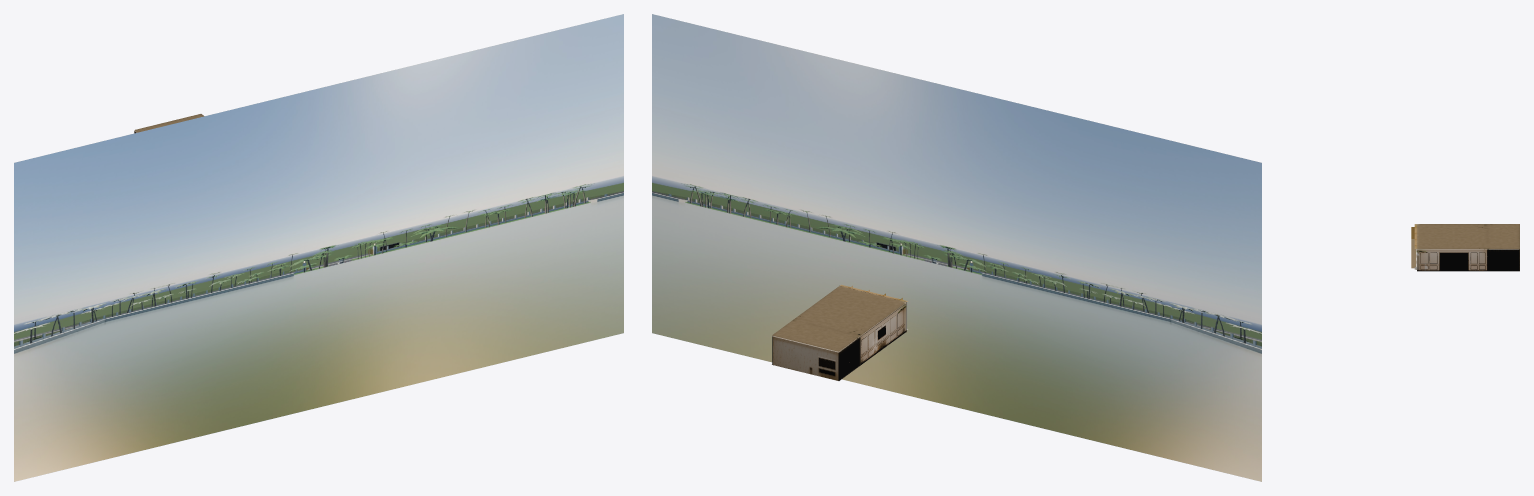
Rendered from int_eko_r2.glb.
3 renders of one model, left to right at view 1: azimuth 30°, elevation 25°; view 2: azimuth 150°, elevation 25°; view 3: azimuth 270°, elevation 25°, orthographic. The views are drawn at different scales.
Parts seen in each view (by area): view 1: VIEW_front; view 2: VIEW_front, ROOM; view 3: ROOM.
Boxes of the visible parts, x1,y1,x2,y2 form: VIEW_front: (14, 14, 623, 481); VIEW_front: (652, 14, 1261, 481); ROOM: (772, 284, 907, 380); ROOM: (1411, 224, 1519, 271).
Bounding box in the file's own units: 72 × 36 × 30.97.
Materials: 3 (2 with a texture image).
